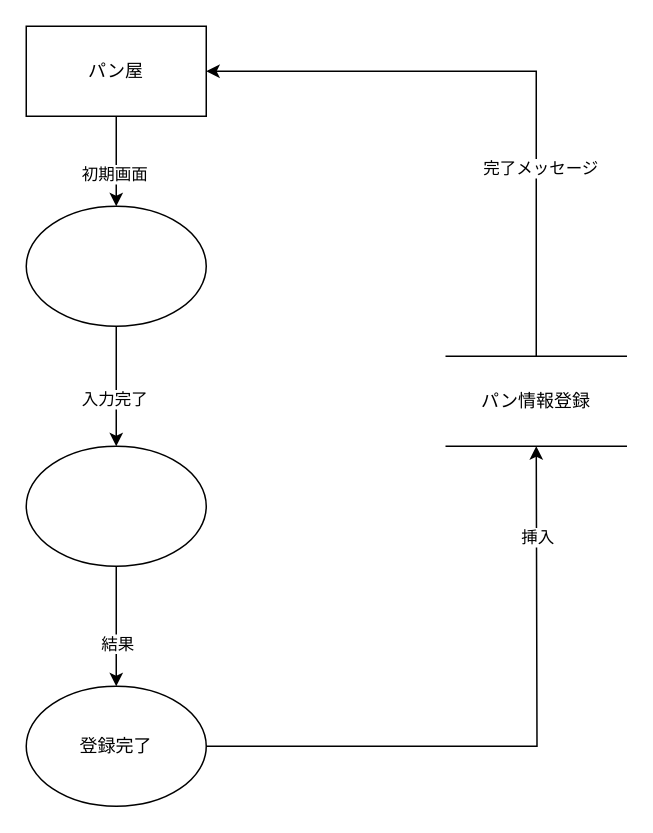
Some shapes in this 653 by 833 pixel diagram are drawn without their labels. The shapes that lost their labels are listed below. From the top down, each one's centre as x and y in pixels, then its label:
At pixel 115 265: "パン情報入力".
At pixel 115 505: "審査".
